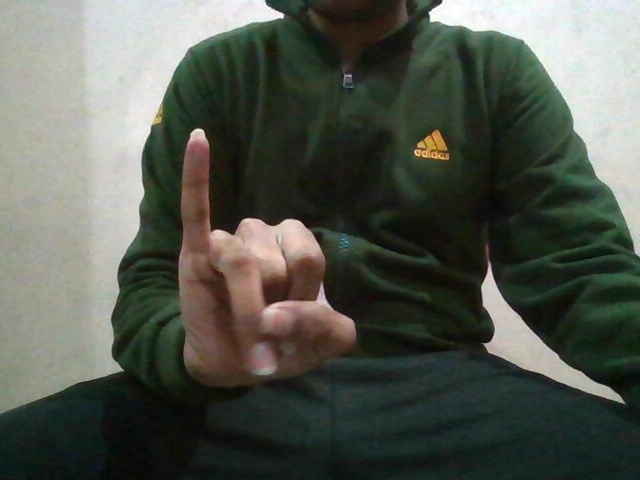I: (165, 126, 369, 394)
